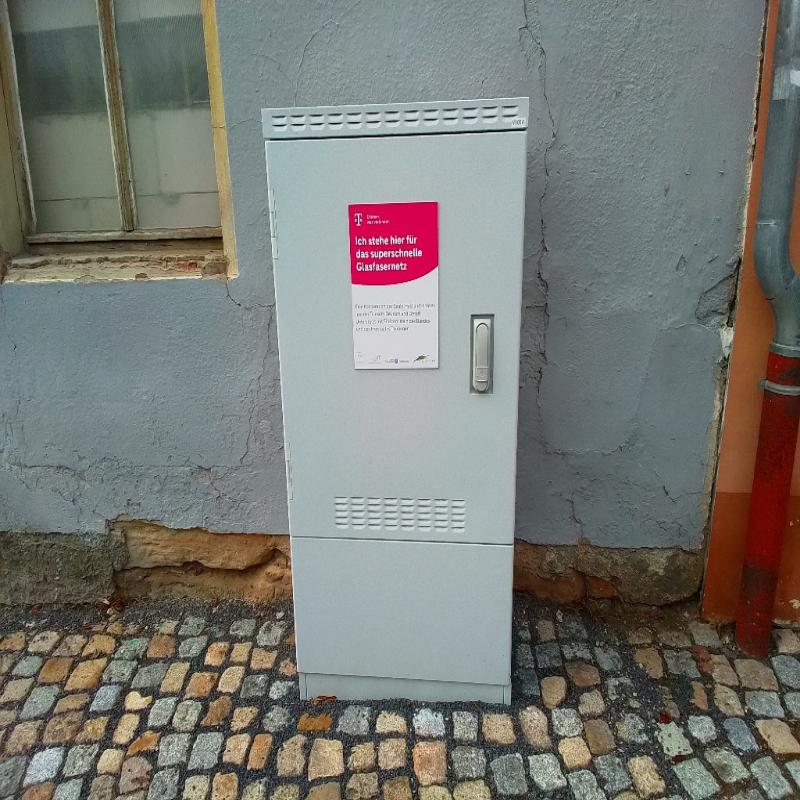NT-Gehause: (261, 100, 526, 705)
Steaker: (348, 200, 438, 370)
